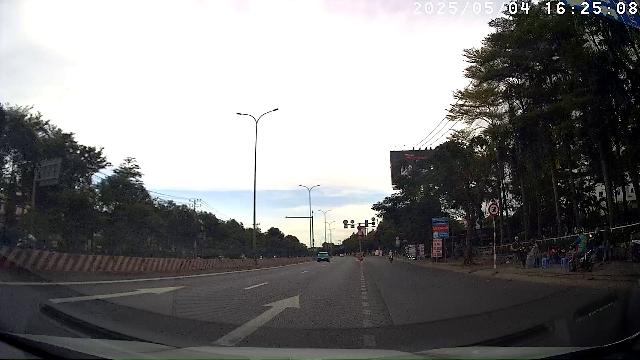127-toc-do-toi-da-50: (488, 204, 498, 214)
